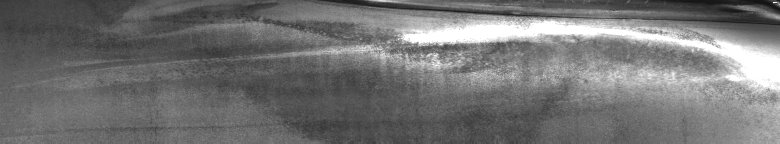ke: (164, 4, 776, 77)
